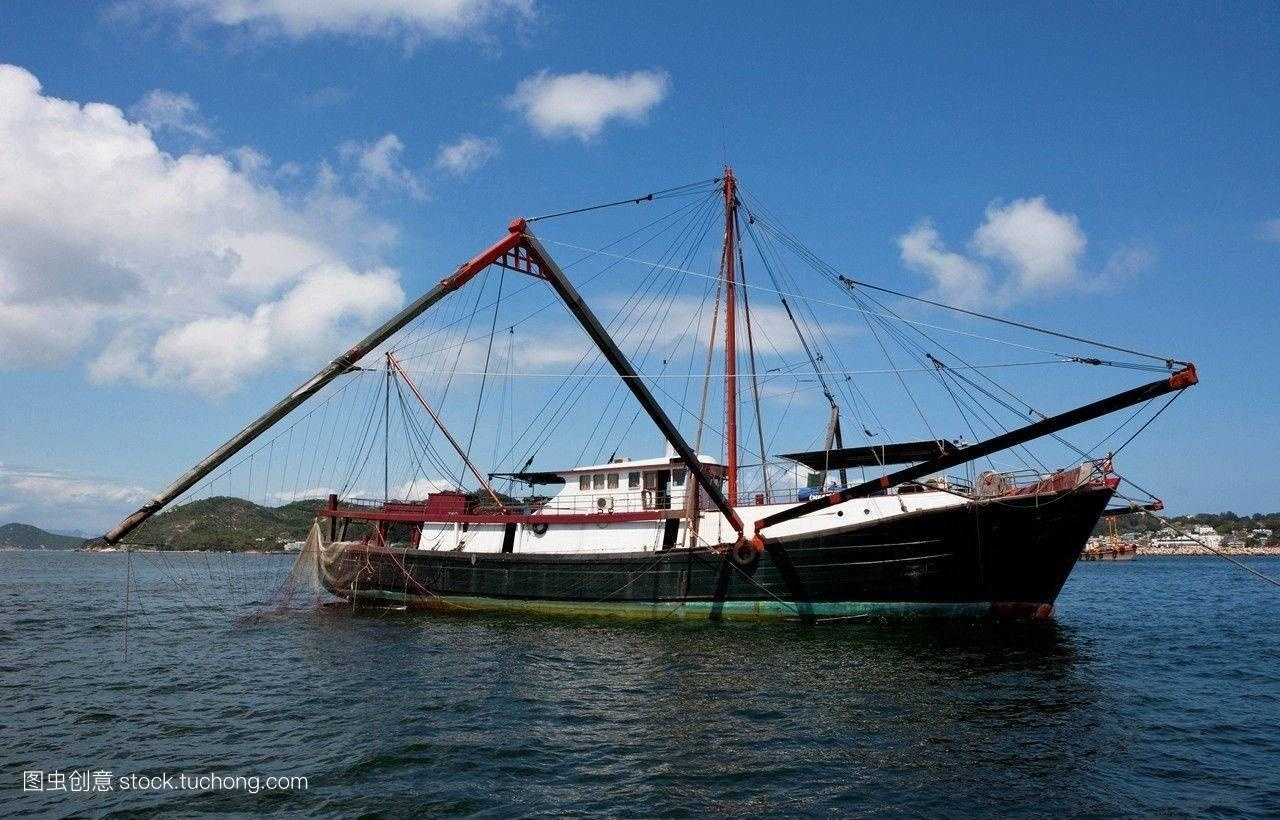otherboat: (306, 404, 1129, 627)
